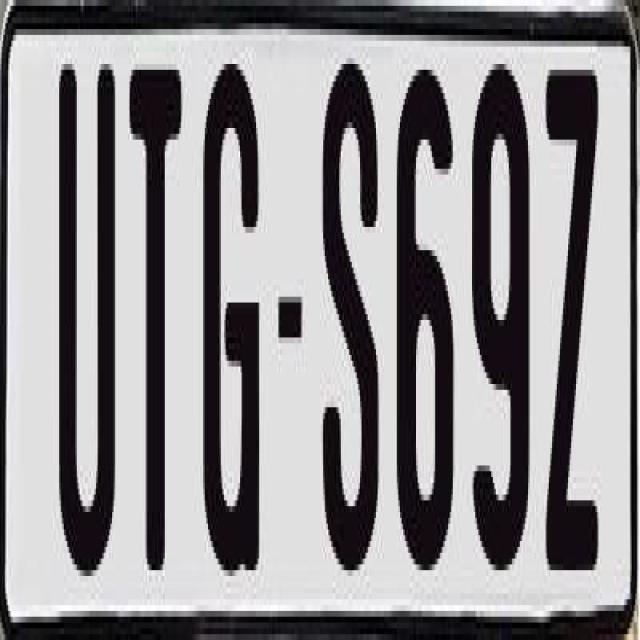6: (396, 58, 459, 564)
9: (469, 52, 533, 558)
G: (200, 52, 266, 600)
S: (322, 64, 381, 576)
T: (128, 70, 181, 570)
U: (54, 58, 116, 594)
Z: (546, 63, 598, 564)
